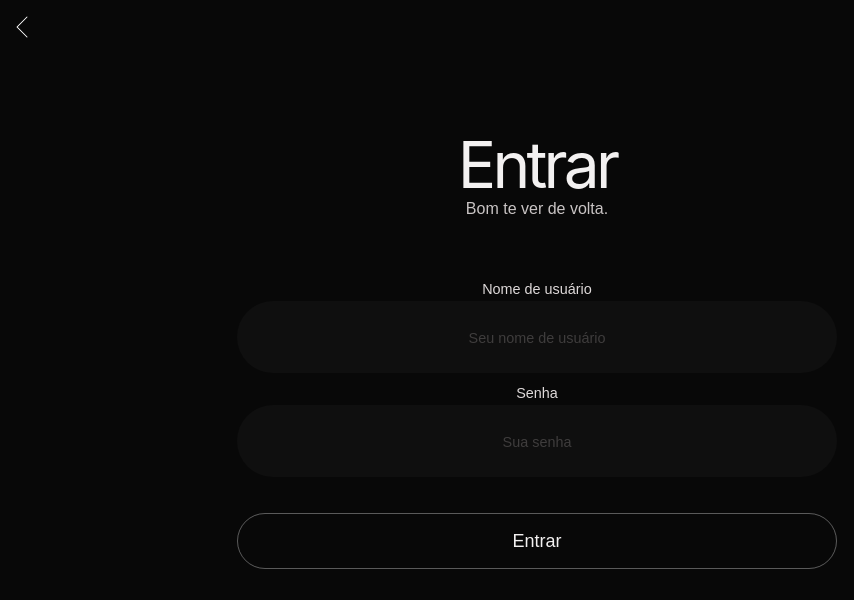
it: login com senha incorreta mostra o erro e não tenta renovar a sessão
The width and height of the screenshot is (854, 600).
Type "davi" into the field labelled "Nome de usuário" at [537, 337], box [237,301,837,373]
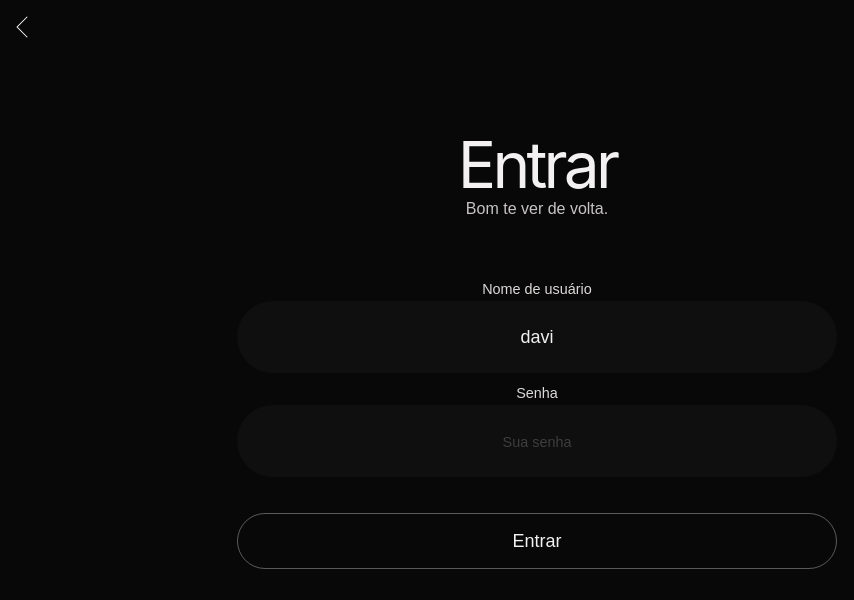
Type "senha-incorreta" into the password field labelled "Senha" at [537, 441], box [237,405,837,477]
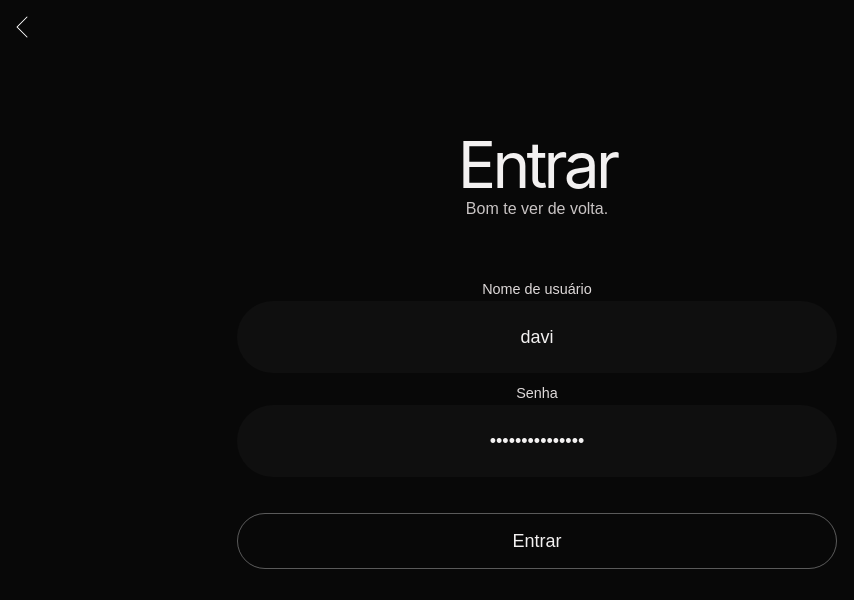
Submit the form, box [237,281,837,569]
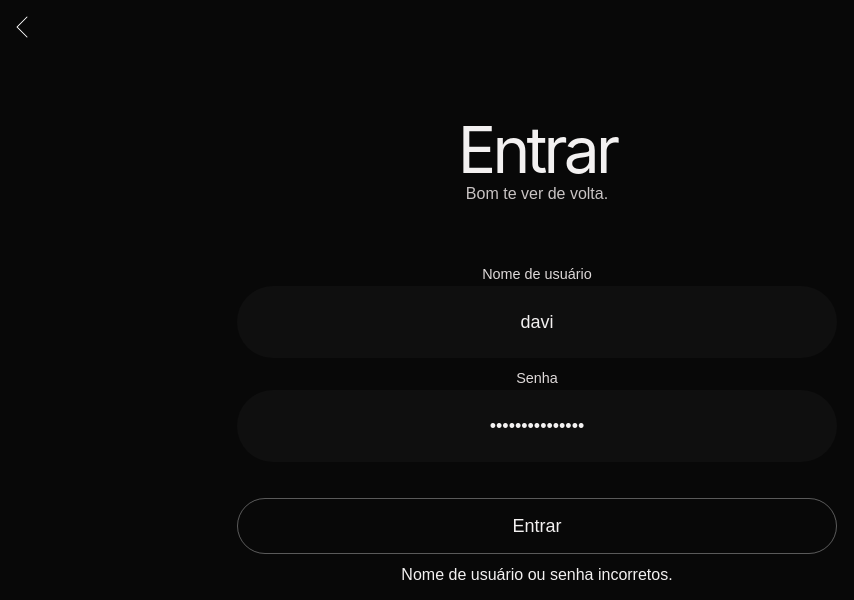
Check: the message "Nome de usuário ou senha incorretos." is shown, box [401,566,673,583]
